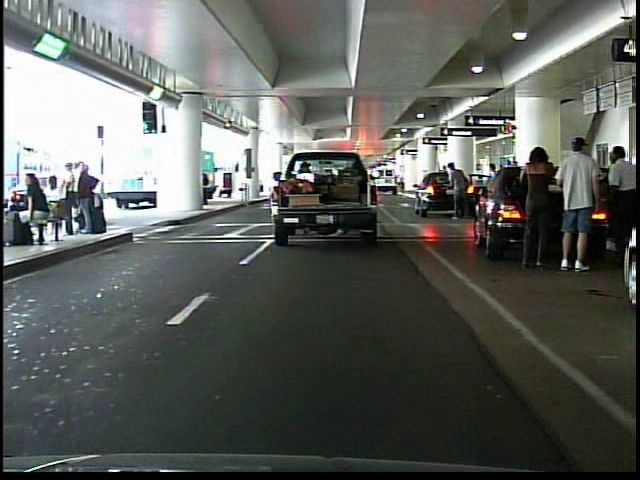person: (550, 134, 603, 274), (515, 136, 561, 278), (603, 140, 638, 218), (445, 156, 471, 227)
